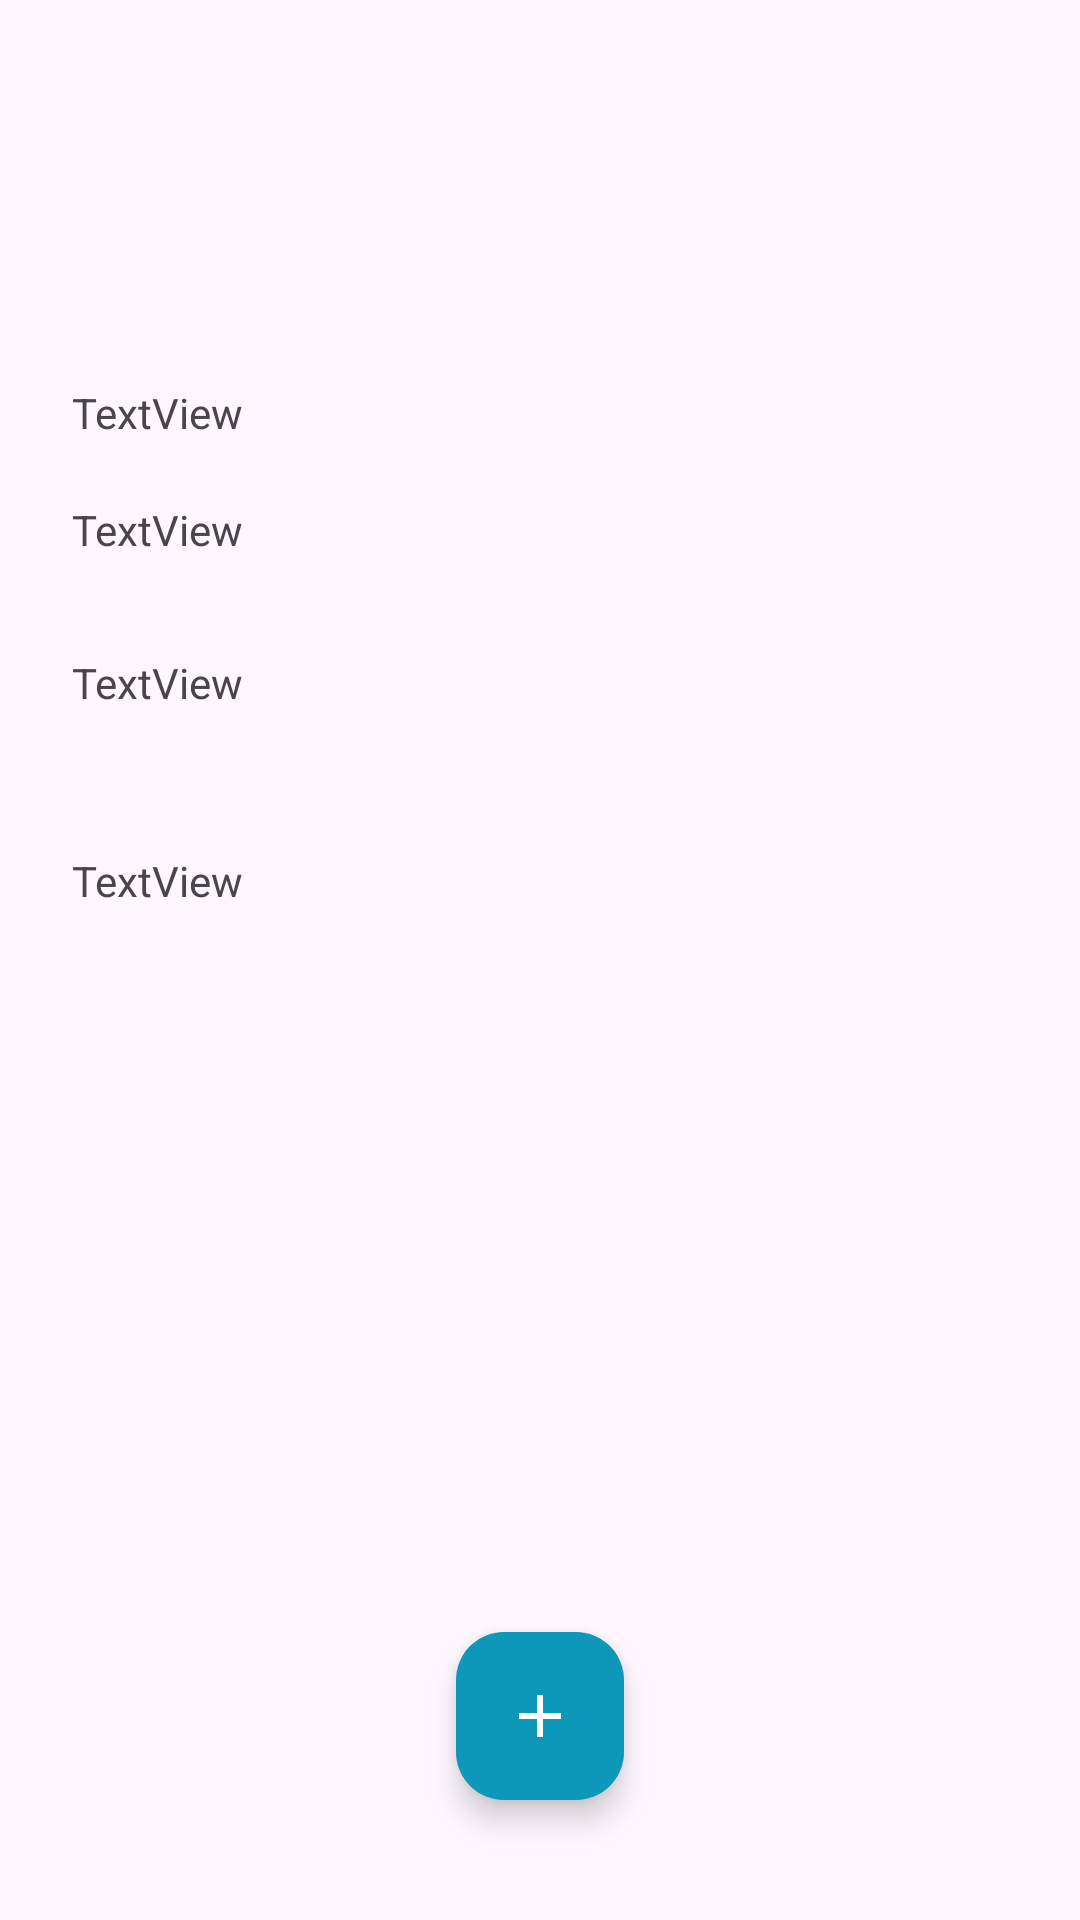

Icon bounding boxes for this 1080px x 1920px phone screenshot, format (left=x1, top=y1, right=x2, bottom=y2):
add: (left=456, top=1632, right=624, bottom=1800)
